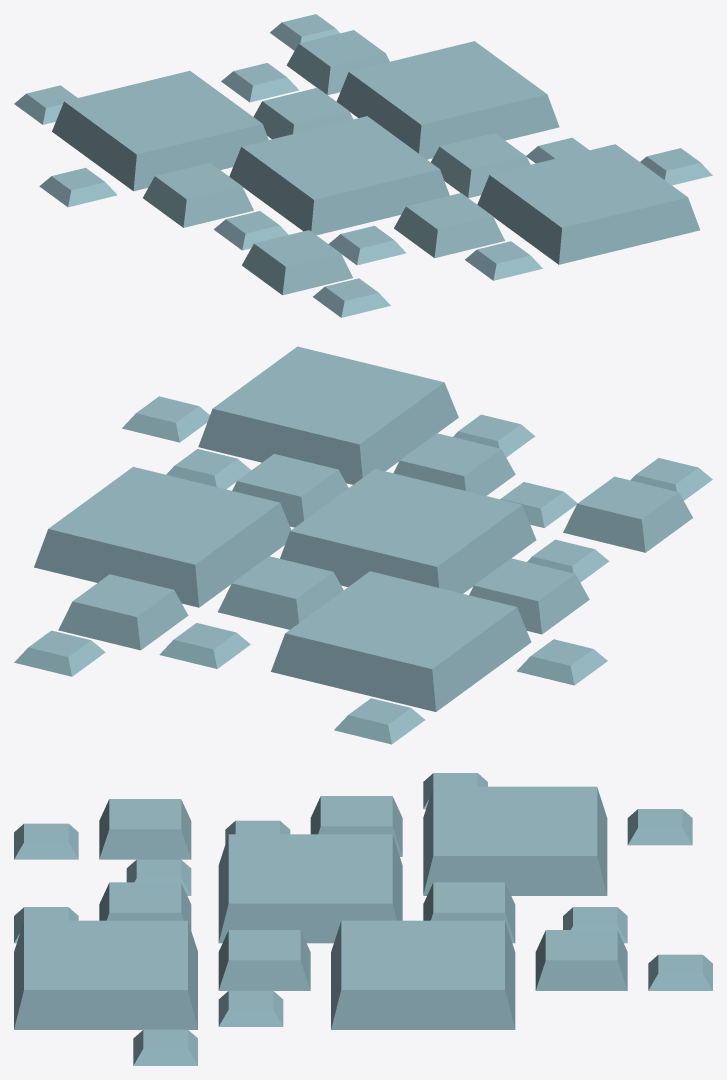
File: road.obj
3 views of the same model, one above another, from view 1: azimuth 30°, elevation 25°; view 2: azimuth 150°, elevation 25°; view 3: azimuth 270°, elevation 25° (orthographic). The views are drawn at different scales.
Parts seen in each view (by area): view 1: road; view 2: road; view 3: road.
Boxes of the visible parts, x1=… form: road: x1=14, y1=14, x2=712, y2=317; road: x1=14, y1=346, x2=712, y2=744; road: x1=14, y1=773, x2=712, y2=1065.
Size of the model in its own units: 0.7407 by 0.0433 by 0.7708.
